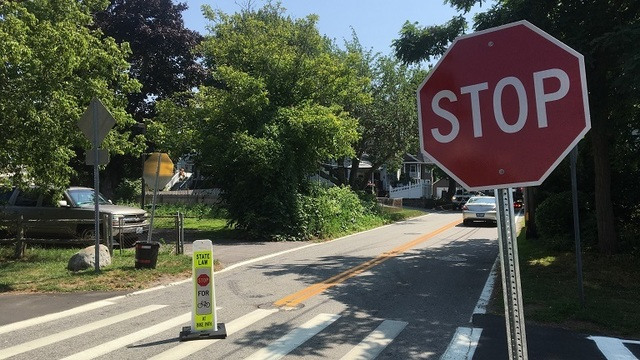stopsign: (417, 23, 586, 191)
